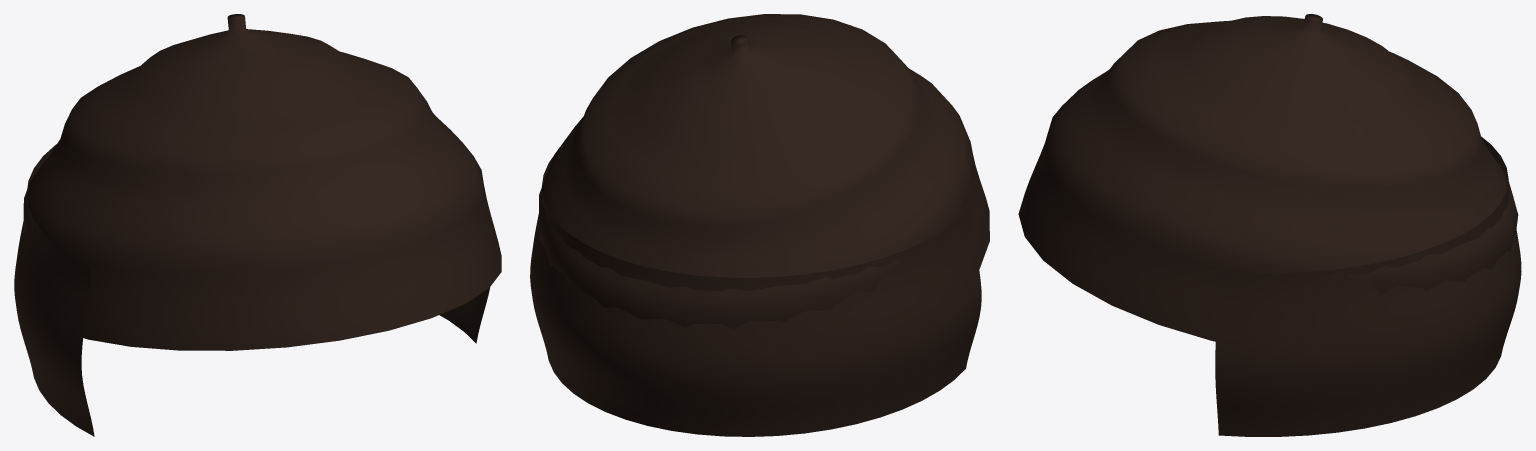
The model's file is hair_buzz_male.glb.
3 views of the same model, side by side, from view 1: azimuth 30°, elevation 25°; view 2: azimuth 150°, elevation 25°; view 3: azimuth 270°, elevation 25° (orthographic). The views are drawn at different scales.
Visible parts, largest first — view 1: hair, hair_back; view 2: hair, hair_back; view 3: hair, hair_back.
Boxes of the visible parts, left/top/right/bottom form: hair: left=23, top=14, right=501, bottom=350; hair_back: left=14, top=144, right=490, bottom=436; hair: left=539, top=14, right=989, bottom=329; hair_back: left=530, top=156, right=981, bottom=436; hair: left=1018, top=14, right=1518, bottom=341; hair_back: left=1215, top=136, right=1521, bottom=436.
Size of the model in its own units: 0.2814 by 0.2182 by 0.3025.
